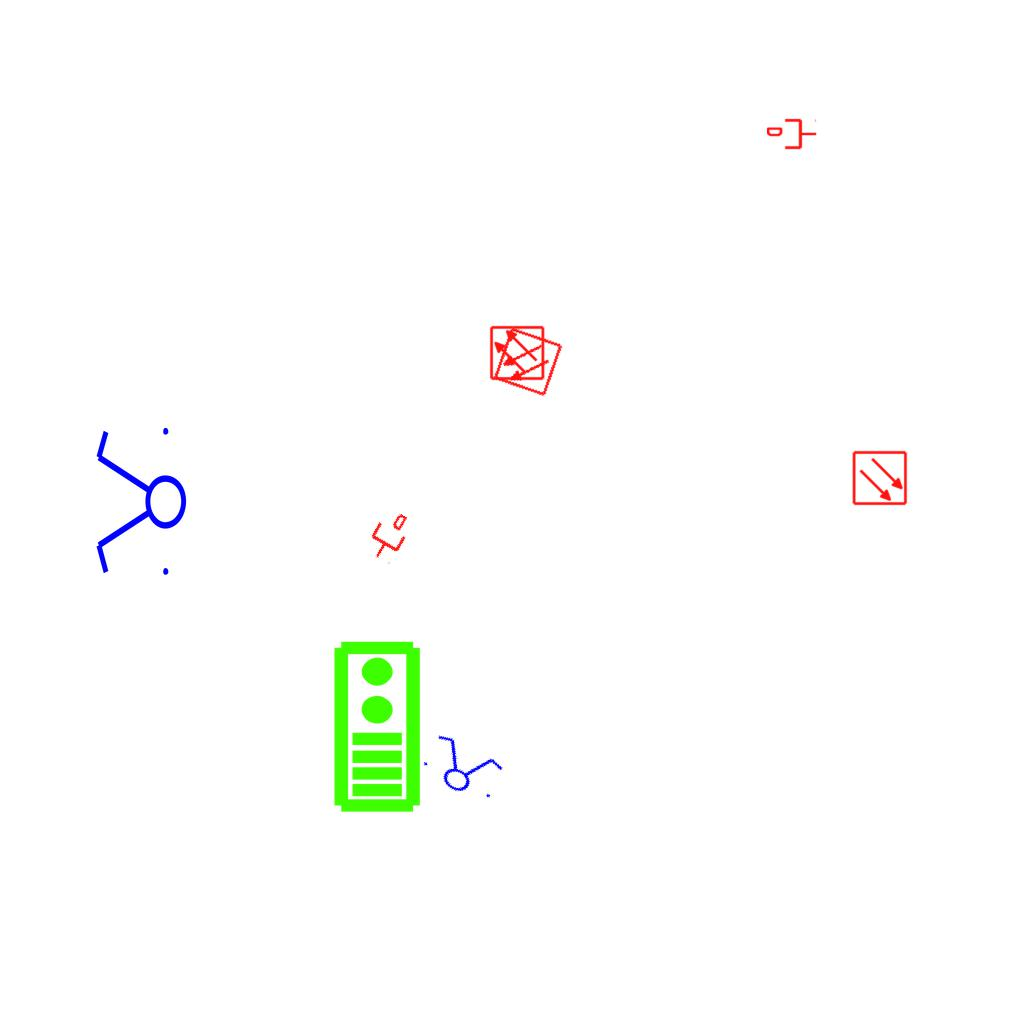Datenanschluss_einfach: (361, 505, 417, 567), (767, 117, 817, 151)
Gegensprechanlage_mit_Video: (328, 638, 423, 814)
RMO_Rauchmelder_optischer: (492, 326, 564, 398), (852, 450, 908, 506), (489, 325, 545, 381)
Serienschalter: (92, 419, 188, 587), (413, 727, 511, 809)
